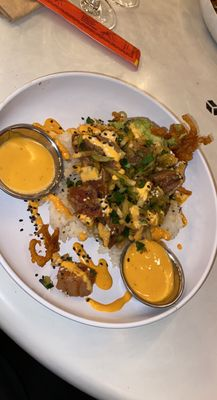sushi: (0, 40, 217, 329), (0, 123, 64, 201)
